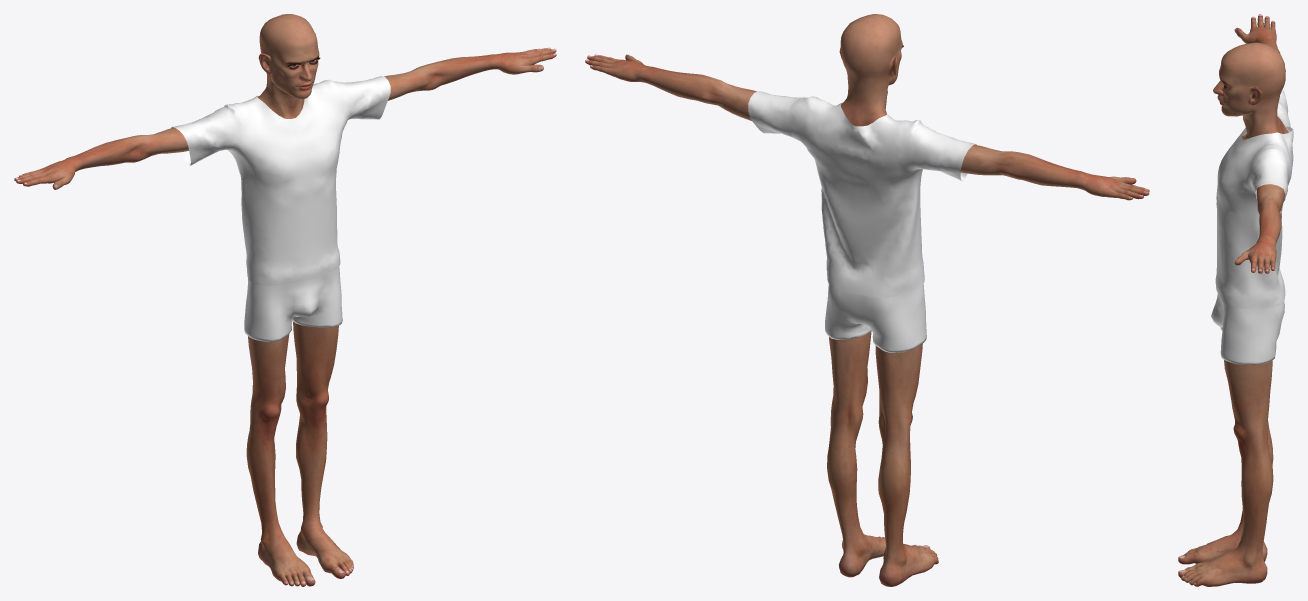
The picture shows the model from 3 angles, left to right: view 1: azimuth 30°, elevation 25°; view 2: azimuth 150°, elevation 25°; view 3: azimuth 270°, elevation 25°; orthographic projection. The views are drawn at different scales.
Visible parts, largest first — view 1: CC_Base_Body, Pattern2D_1872919, Boxers, Pattern2D_2639937, Pattern2D_2639936, Pattern2D_1872920; view 2: CC_Base_Body, Pattern2D_1872920, Boxers, Pattern2D_2639937, Pattern2D_2639936, Pattern2D_1872919; view 3: CC_Base_Body, Pattern2D_1872919, Boxers, Pattern2D_1872920, Pattern2D_2639936.
Part boxes in pixels (box(x1,y1,x2,y2)): CC_Base_Body: box(14, 14, 556, 586); Pattern2D_1872919: box(229, 79, 346, 285); Boxers: box(244, 267, 342, 341); Pattern2D_2639937: box(170, 104, 240, 165); Pattern2D_2639936: box(331, 76, 390, 122); Pattern2D_1872920: box(228, 79, 329, 280); CC_Base_Body: box(585, 14, 1149, 586); Pattern2D_1872920: box(798, 97, 919, 298); Boxers: box(825, 283, 926, 352); Pattern2D_2639937: box(907, 120, 976, 181); Pattern2D_2639936: box(748, 91, 808, 141); Pattern2D_1872919: box(809, 96, 924, 286); CC_Base_Body: box(1178, 14, 1288, 586); Pattern2D_1872919: box(1215, 128, 1273, 308); Boxers: box(1211, 293, 1284, 364); Pattern2D_1872920: box(1249, 103, 1293, 308); Pattern2D_2639936: box(1247, 149, 1288, 202).
Size of the model in its own units: 1.84 by 1.76 by 0.3493.
18 materials, 13 textured.
